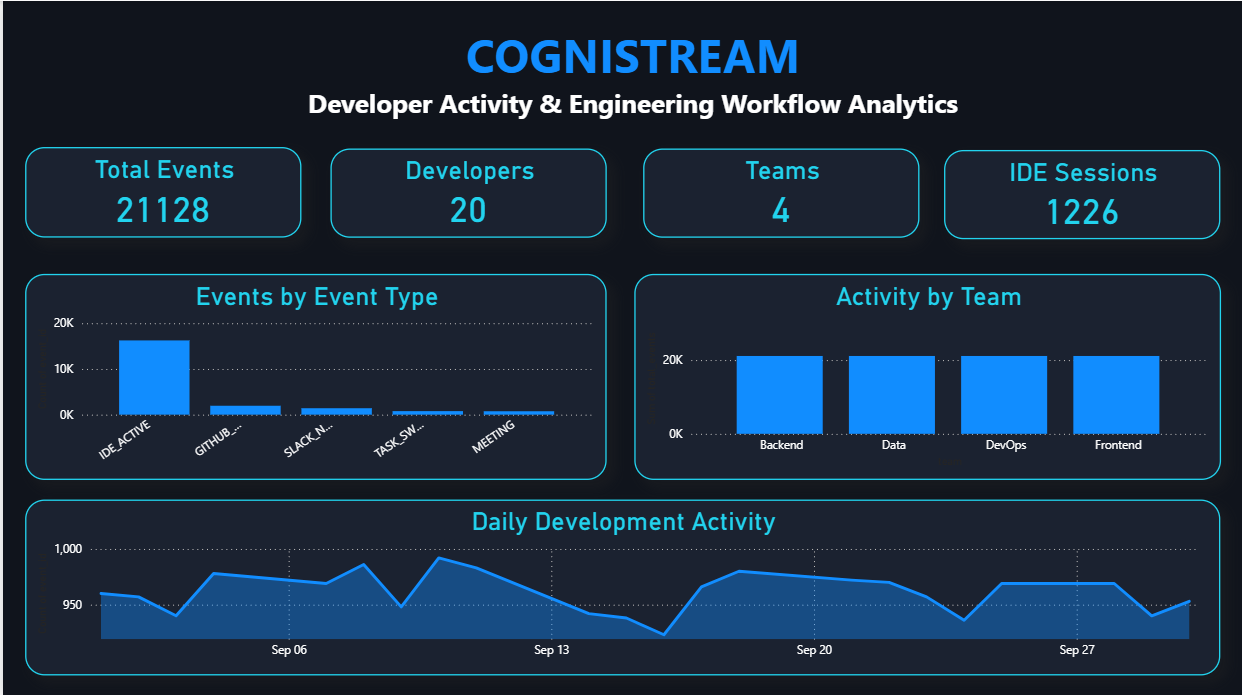

Layout of this report page (visuals, bound fields, positions):
{"tool":"powerbi","page":{"name":"Overview","canvas":[1280,720],"ordinal":0},"visuals":[{"type":"textbox","box":[195.6,17.6,911.5,115.4],"z":0},{"type":"card","title":"Total Events","fields":{"Values":["Count(event_overview.event_id)"]},"box":[23.5,150.6,285.6,93.9],"z":1000},{"type":"card","title":"Developers","fields":{"Values":["Count(event_overview.developer_id)"]},"box":[338.4,152.6,285.6,91.9],"z":2000},{"type":"card","title":"Teams","fields":{"Values":["Count(event_overview.team)"]},"box":[661.2,152.6,285.6,91.9],"z":3000},{"type":"card","title":"IDE Sessions","fields":{"Values":["CountNonNull(session_quality.session_number)"]},"box":[972.2,154.5,285.6,91.9],"z":4000},{"type":"columnChart","title":"Events by Event Type","fields":{"Category":["event_overview.event_type"],"Y":["CountNonNull(event_overview.event_id)"]},"box":[23.5,281.7,600.5,213.2],"z":5000},{"type":"stackedAreaChart","title":"Daily Development Activity","fields":{"Category":["event_overview.timestamp.Variation.Date Hierarchy.Year","event_overview.timestamp.Variation.Date Hierarchy.Quarter","event_overview.timestamp.Variation.Date Hierarchy.Month","event_overview.timestamp.Variation.Date Hierarchy.Day"],"Y":["CountNonNull(event_overview.event_id)"]},"box":[23.5,514.5,1234.3,181.9],"z":6000},{"type":"columnChart","title":"Activity by Team","fields":{"Category":["event_overview.team"],"Y":["Sum(team_activity.total_events)"]},"box":[651.4,281.7,606.4,213.2],"z":7000}]}

Visuals, with their boxes in screenshot pixels (x1, y1, x2, y2), scaled from the page's 1280x720 canvas onto the 1242x695 screenshot:
textbox: [x1=190, y1=17, x2=1074, y2=128]
"Total Events" card: [x1=23, y1=145, x2=300, y2=236]
"Developers" card: [x1=328, y1=147, x2=605, y2=236]
"Teams" card: [x1=642, y1=147, x2=919, y2=236]
"IDE Sessions" card: [x1=943, y1=149, x2=1220, y2=238]
"Events by Event Type" columnChart: [x1=23, y1=272, x2=605, y2=478]
"Daily Development Activity" stackedAreaChart: [x1=23, y1=497, x2=1220, y2=672]
"Activity by Team" columnChart: [x1=632, y1=272, x2=1220, y2=478]
